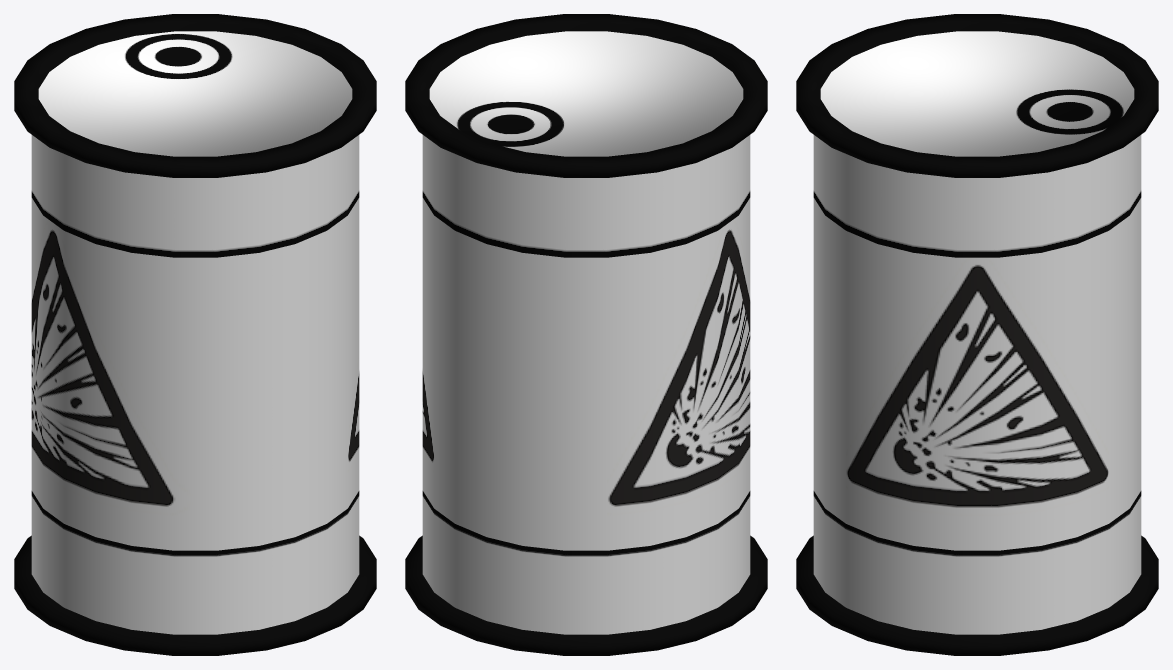
File: ExplosiveBarrel.fbx
3 renders of one model, left to right at view 1: azimuth 30°, elevation 25°; view 2: azimuth 150°, elevation 25°; view 3: azimuth 270°, elevation 25°, orthographic.
Parts seen in each view (by area): view 1: Cylinder.010; view 2: Cylinder.010; view 3: Cylinder.010.
Boxes of the visible parts, x1=… form: Cylinder.010: x1=14, y1=14, x2=376, y2=655; Cylinder.010: x1=405, y1=14, x2=767, y2=655; Cylinder.010: x1=796, y1=14, x2=1158, y2=655.
Bounding box in the file's own units: 0.8621 × 0.8621 × 1.28.
